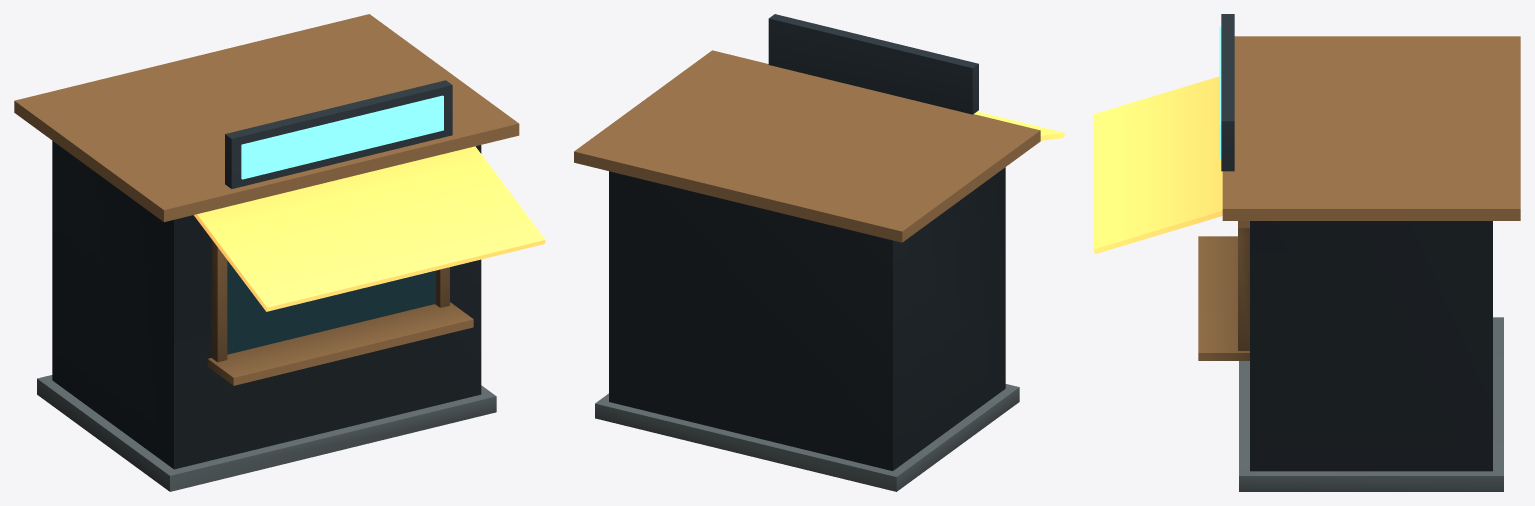
The model's file is kiosk.lod2.glb.
The picture shows the model from 3 angles, left to right: view 1: azimuth 30°, elevation 25°; view 2: azimuth 150°, elevation 25°; view 3: azimuth 270°, elevation 25°; orthographic projection. The views are drawn at different scales.
Visible parts, largest first — view 1: structure; view 2: structure; view 3: structure.
Part boxes in pixels (box(x1,y1,x2,y2)): structure: box(14, 14, 545, 491); structure: box(574, 14, 1064, 491); structure: box(1093, 14, 1520, 491).
Size of the model in its own units: 3.7 by 3.45 by 3.87.
